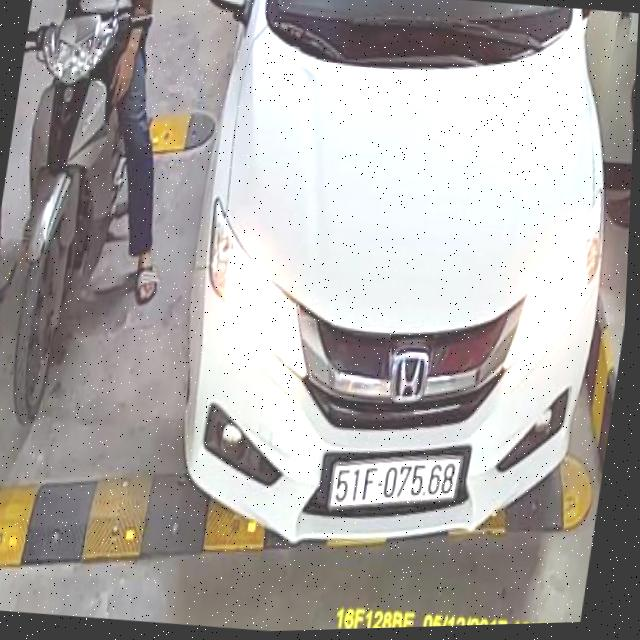car: (117, 0, 640, 594)
motorcycle: (0, 1, 179, 451)
plate: (322, 446, 466, 527)
